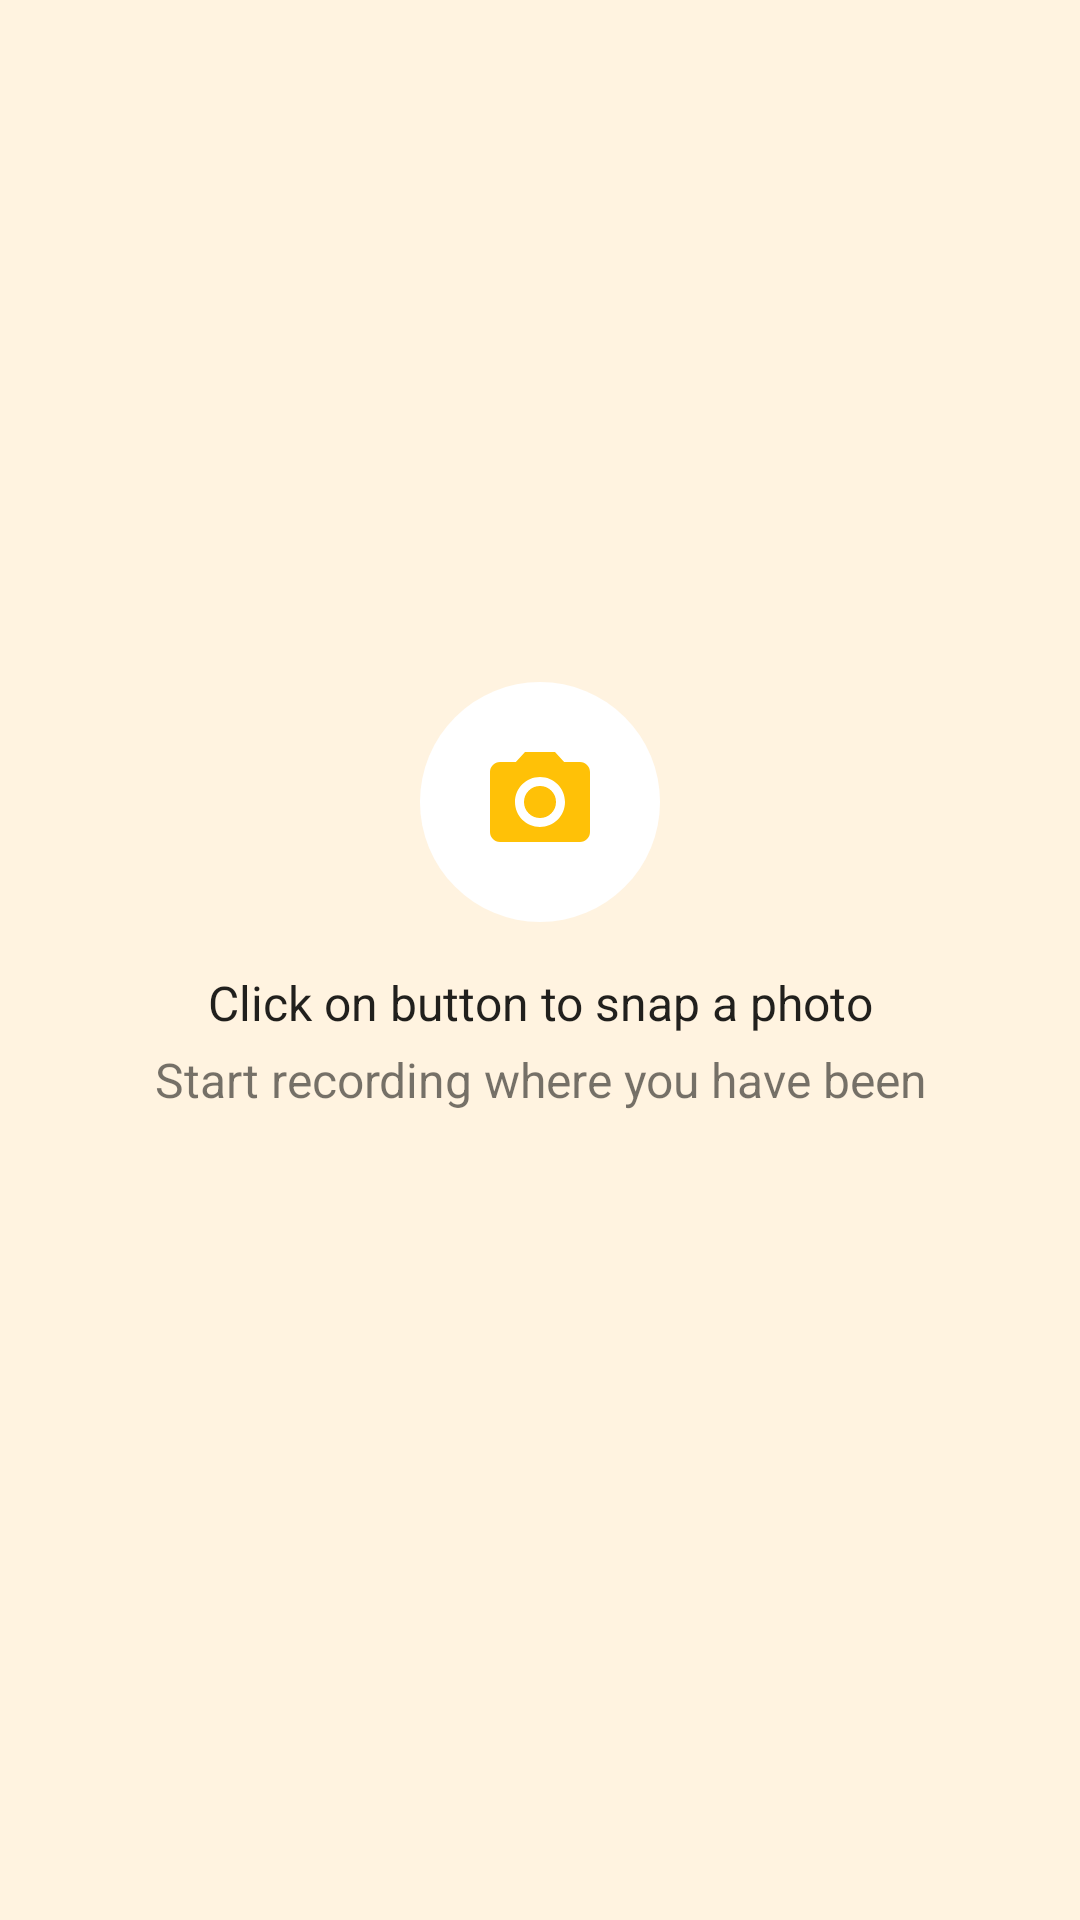

Named icons in this screenshot (1080px×1920px) and their bounding boxes, bbox(x1, y1, x2, y2):
Camera icon: bbox(490, 752, 590, 842)
